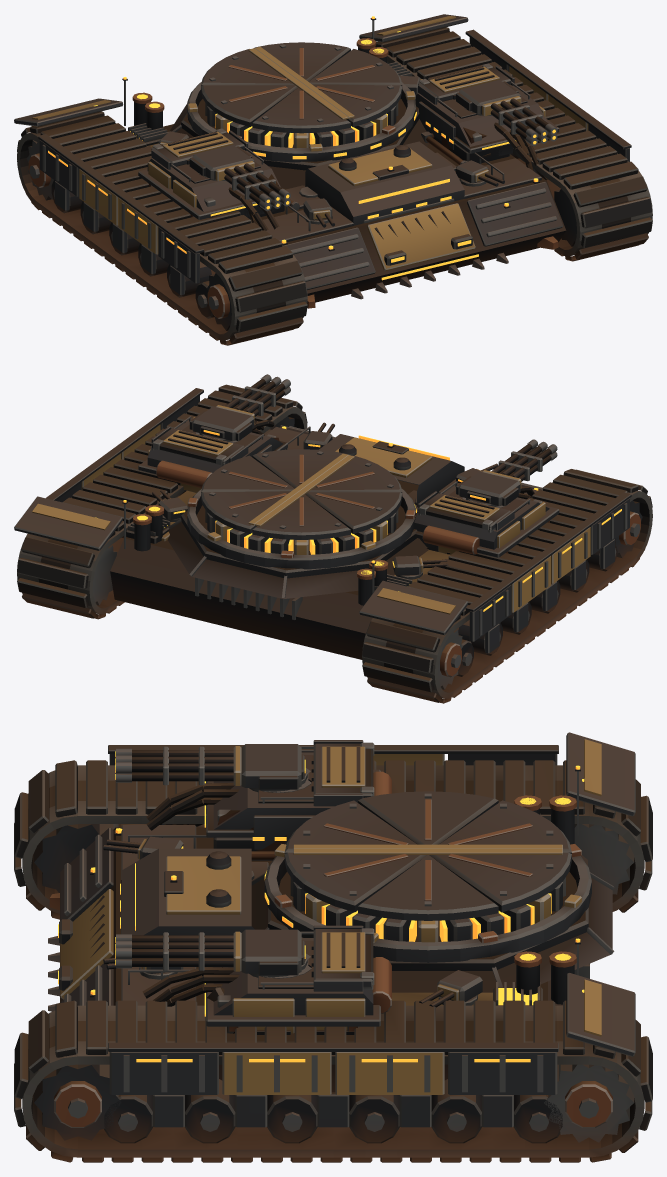
Rendered from bastion-9.glb.
The picture shows the model from 3 angles, top to bottom: view 1: azimuth 30°, elevation 25°; view 2: azimuth 150°, elevation 25°; view 3: azimuth 270°, elevation 25°; orthographic projection. The views are drawn at different scales.
Parts seen in each view (by area): view 1: bastion_hull, bastion_tread_left, bastion_tread_right, bastion_core_shutter_a, bastion_core_shutter_b, bastion_battery_right, bastion_gun_right, bastion_gun_left, bastion_battery_left, bastion_core, bastion_shutter_left, bastion_shutter_right (+2 smaller); view 2: bastion_hull, bastion_tread_left, bastion_tread_right, bastion_core_shutter_a, bastion_core_shutter_b, bastion_battery_left, bastion_gun_right, bastion_gun_left, bastion_core, bastion_battery_right, bastion_shutter_left, bastion_shutter_right; view 3: bastion_hull, bastion_tread_right, bastion_tread_left, bastion_core_shutter_b, bastion_core_shutter_a, bastion_gun_right, bastion_gun_left, bastion_battery_right, bastion_core, bastion_battery_left, bastion_shutter_right, bastion_shutter_left (+2 smaller).
Part boxes in pixels (left/top/right/bottom): bastion_hull: left=14, top=14, right=631, bottom=330; bastion_tread_left: left=17, top=111, right=307, bottom=345; bastion_tread_right: left=375, top=27, right=652, bottom=261; bastion_core_shutter_a: left=201, top=48, right=350, bottom=133; bastion_core_shutter_b: left=254, top=42, right=402, bottom=126; bastion_battery_right: left=415, top=81, right=547, bottom=156; bastion_gun_right: left=456, top=80, right=557, bottom=146; bastion_gun_left: left=189, top=145, right=290, bottom=211; bastion_battery_left: left=147, top=146, right=282, bottom=217; bastion_core: left=205, top=102, right=398, bottom=148; bastion_shutter_left: left=151, top=128, right=248, bottom=169; bastion_shutter_right: left=418, top=63, right=514, bottom=104; bastion_hull: left=14, top=388, right=642, bottom=689; bastion_tread_left: left=362, top=469, right=652, bottom=703; bastion_tread_right: left=17, top=384, right=307, bottom=619; bastion_core_shutter_a: left=252, top=455, right=402, bottom=539; bastion_core_shutter_b: left=201, top=449, right=348, bottom=533; bastion_battery_left: left=414, top=481, right=549, bottom=554; bastion_gun_right: left=189, top=374, right=290, bottom=441; bastion_gun_left: left=456, top=439, right=557, bottom=506; bastion_core: left=205, top=509, right=398, bottom=554; bastion_battery_right: left=147, top=416, right=283, bottom=492; bastion_shutter_left: left=418, top=491, right=514, bottom=532; bastion_shutter_right: left=151, top=426, right=248, bottom=466; bastion_hull: left=34, top=732, right=635, bottom=1143; bastion_tread_right: left=14, top=1000, right=652, bottom=1162; bastion_tread_left: left=14, top=760, right=652, bottom=919; bastion_core_shutter_b: left=284, top=848, right=571, bottom=920; bastion_core_shutter_a: left=284, top=791, right=571, bottom=853; bastion_gun_right: left=115, top=929, right=307, bottom=977; bastion_gun_left: left=115, top=744, right=307, bottom=791; bastion_battery_right: left=213, top=931, right=391, bottom=1034; bastion_core: left=290, top=877, right=565, bottom=942; bastion_battery_left: left=213, top=746, right=391, bottom=849; bastion_shutter_right: left=311, top=925, right=374, bottom=991; bastion_shutter_left: left=311, top=740, right=374, bottom=806.
Size of the model in its own units: 7.23 by 1.89 by 6.4.
